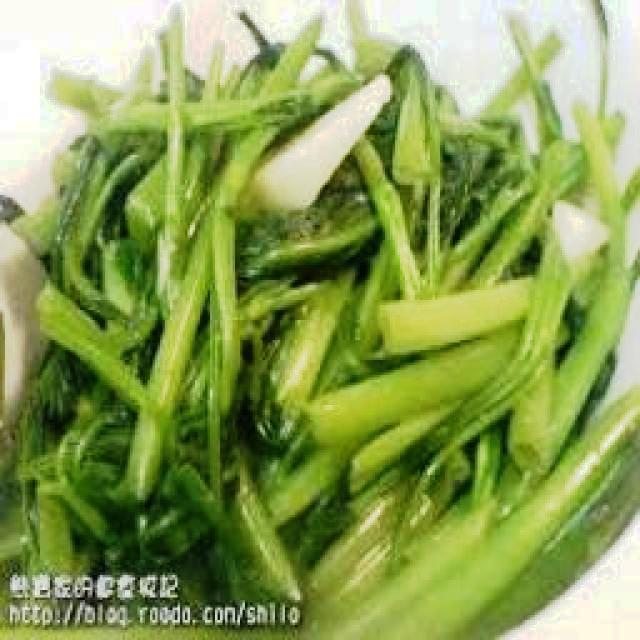water_spinach: (42, 14, 628, 548), (299, 453, 582, 608), (11, 484, 306, 576)
